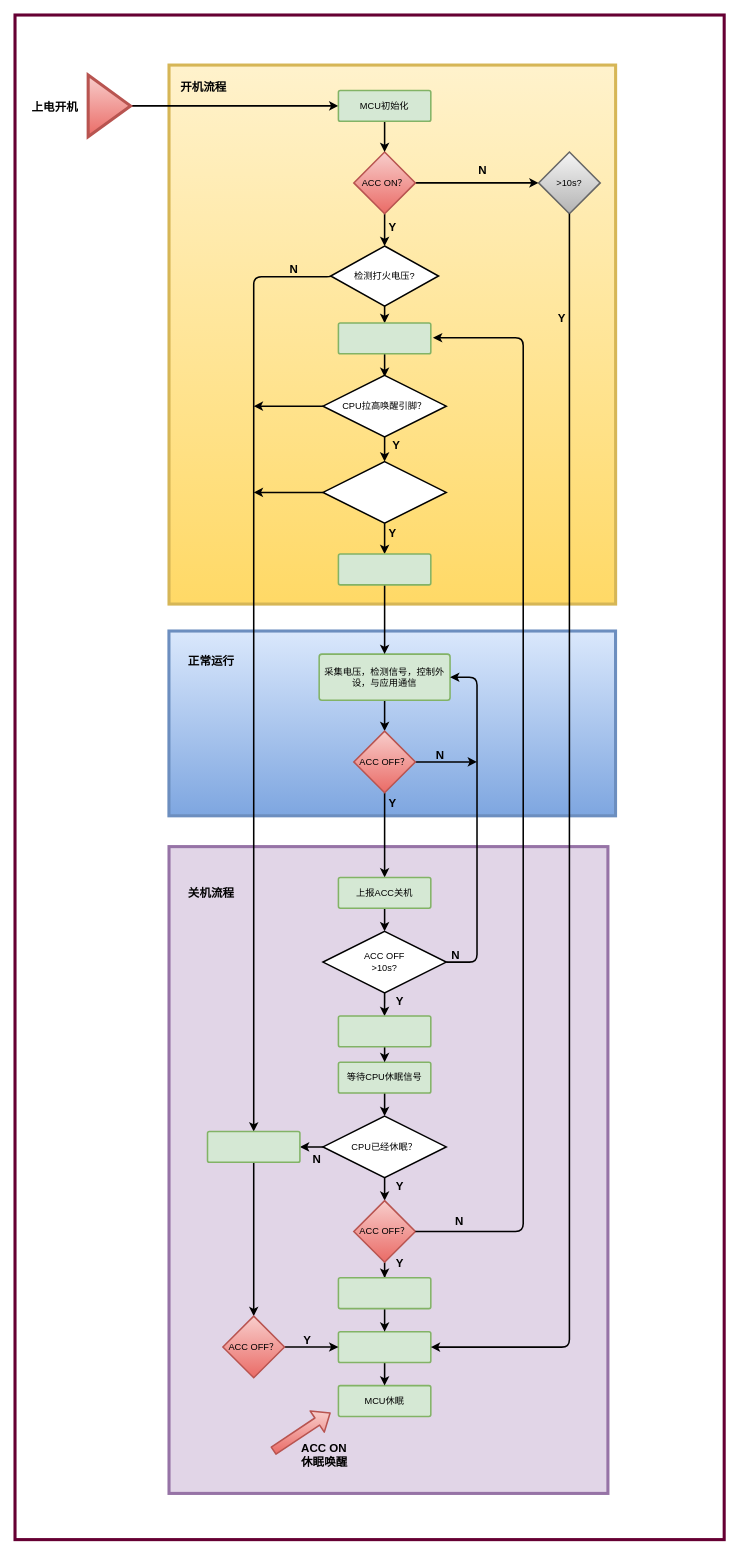
Image size: 738x1554. Some labels were removed from this diagram. The shapes that lost their labels are listed below. From the top down, each one's centre as x and y in pixels, then its label:
At pixel 384 338: "CPU上电".
At pixel 384 492: "应用是否启动？".
At pixel 384 569: "开功放".
At pixel 384 1031: "POWER KEY 短按休眠".
At pixel 253 1146: "标记错误".
At pixel 384 1293: "等待N秒".
At pixel 384 1347: "关闭所有电压".
